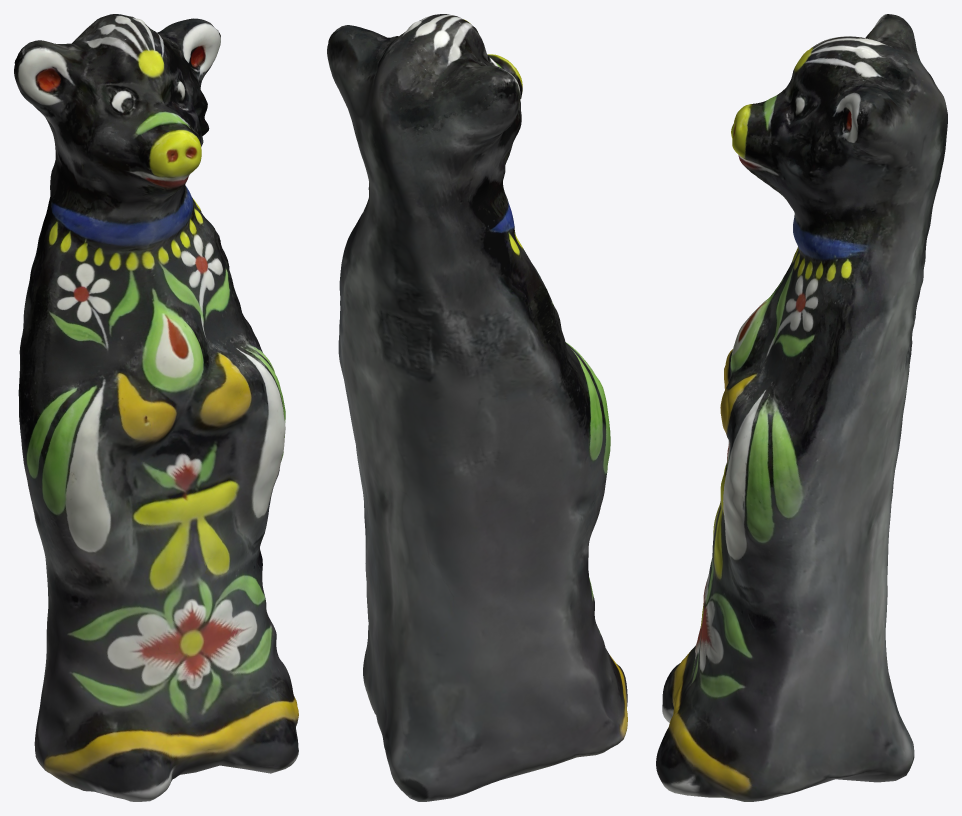
3 renders of one model, left to right at view 1: azimuth 30°, elevation 25°; view 2: azimuth 150°, elevation 25°; view 3: azimuth 270°, elevation 25°, orthographic. The views are drawn at different scales.
Bounding box in the file's own units: 0.3271 × 0.9207 × 0.3276.
1 material, 1 textured.
